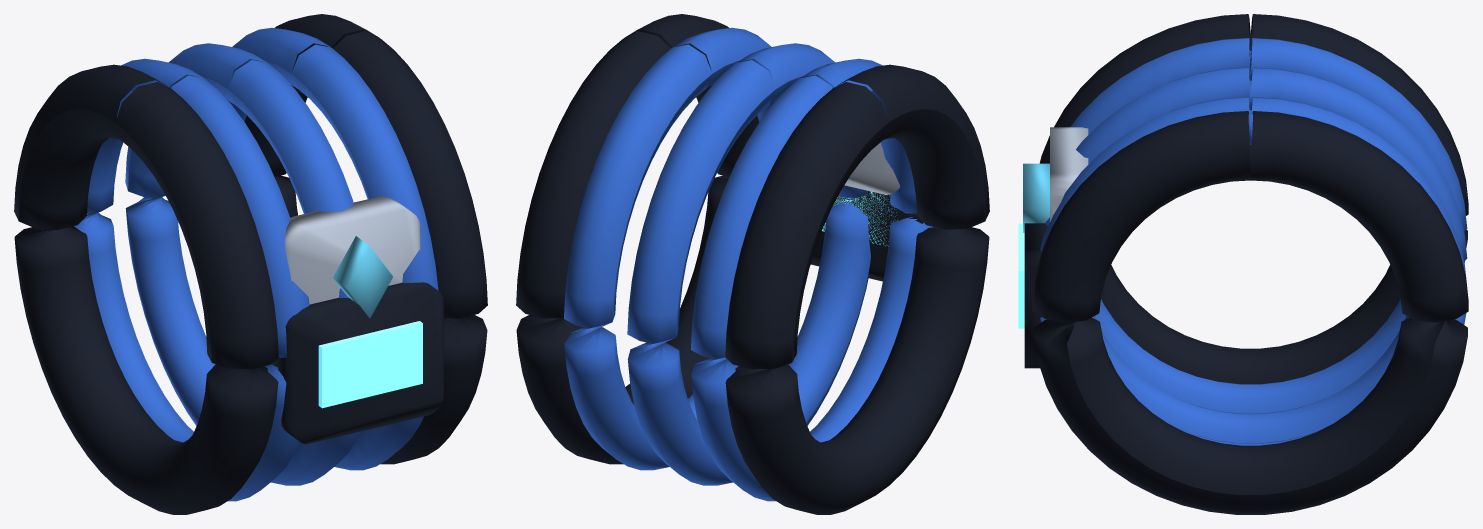
Rendered from nova_right_wrist_cuff.glb.
3 renders of one model, left to right at view 1: azimuth 30°, elevation 25°; view 2: azimuth 150°, elevation 25°; view 3: azimuth 270°, elevation 25°, orthographic. The views are drawn at different scales.
Parts seen in each view (by area): view 1: nova_right_wrist_cuff; view 2: nova_right_wrist_cuff; view 3: nova_right_wrist_cuff.
Part boxes in pixels (bbox=[...]): nova_right_wrist_cuff: bbox=[14, 14, 487, 514]; nova_right_wrist_cuff: bbox=[516, 14, 989, 514]; nova_right_wrist_cuff: bbox=[1018, 14, 1468, 514].
Size of the model in its own units: 0.094 by 0.1368 by 0.1414.
